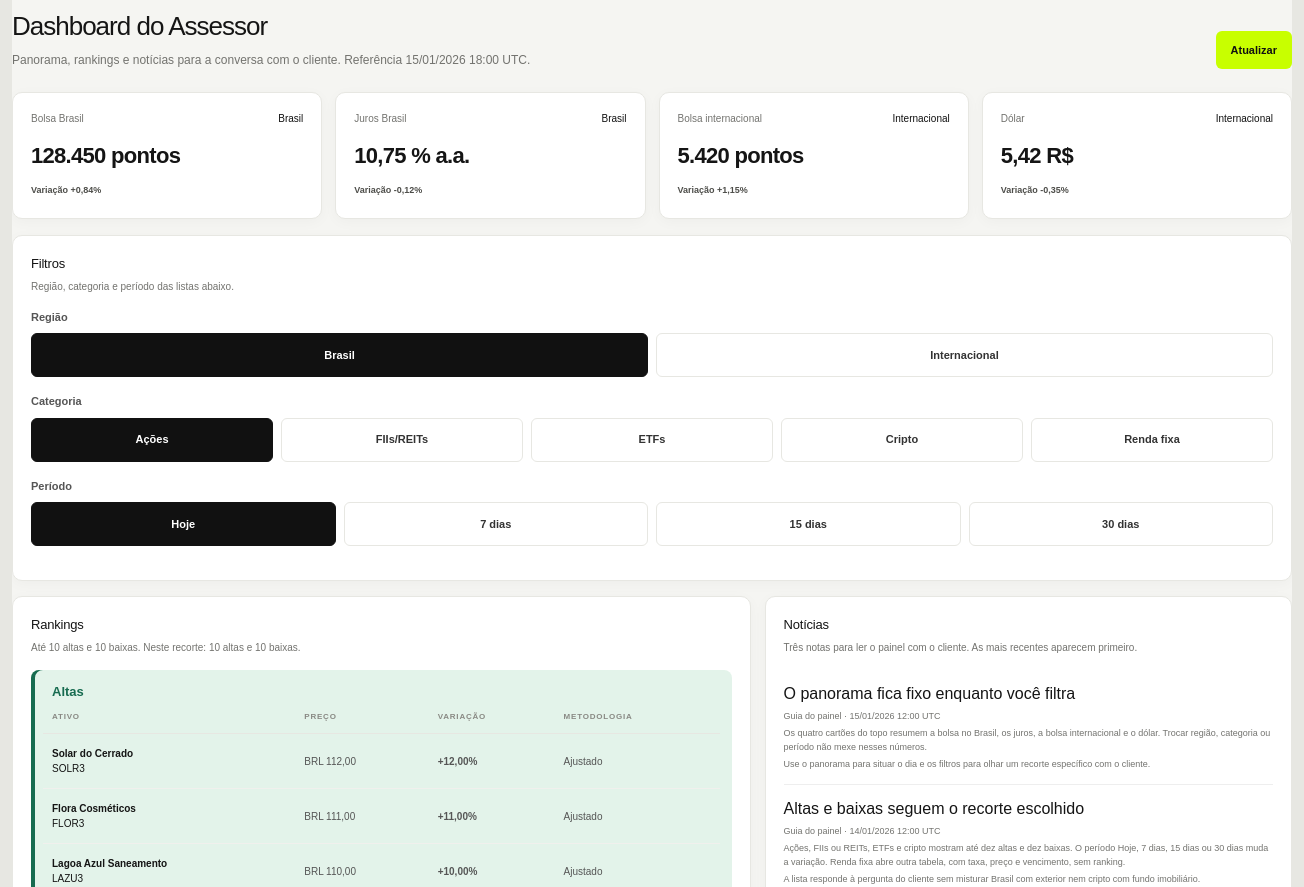
Test case: interface do dashboard › troca região e esconde o ranking quando a categoria é renda fixa
The width and height of the screenshot is (1304, 887).
Click the button "Internacional" at (964, 355), box [656,333,1273,377]
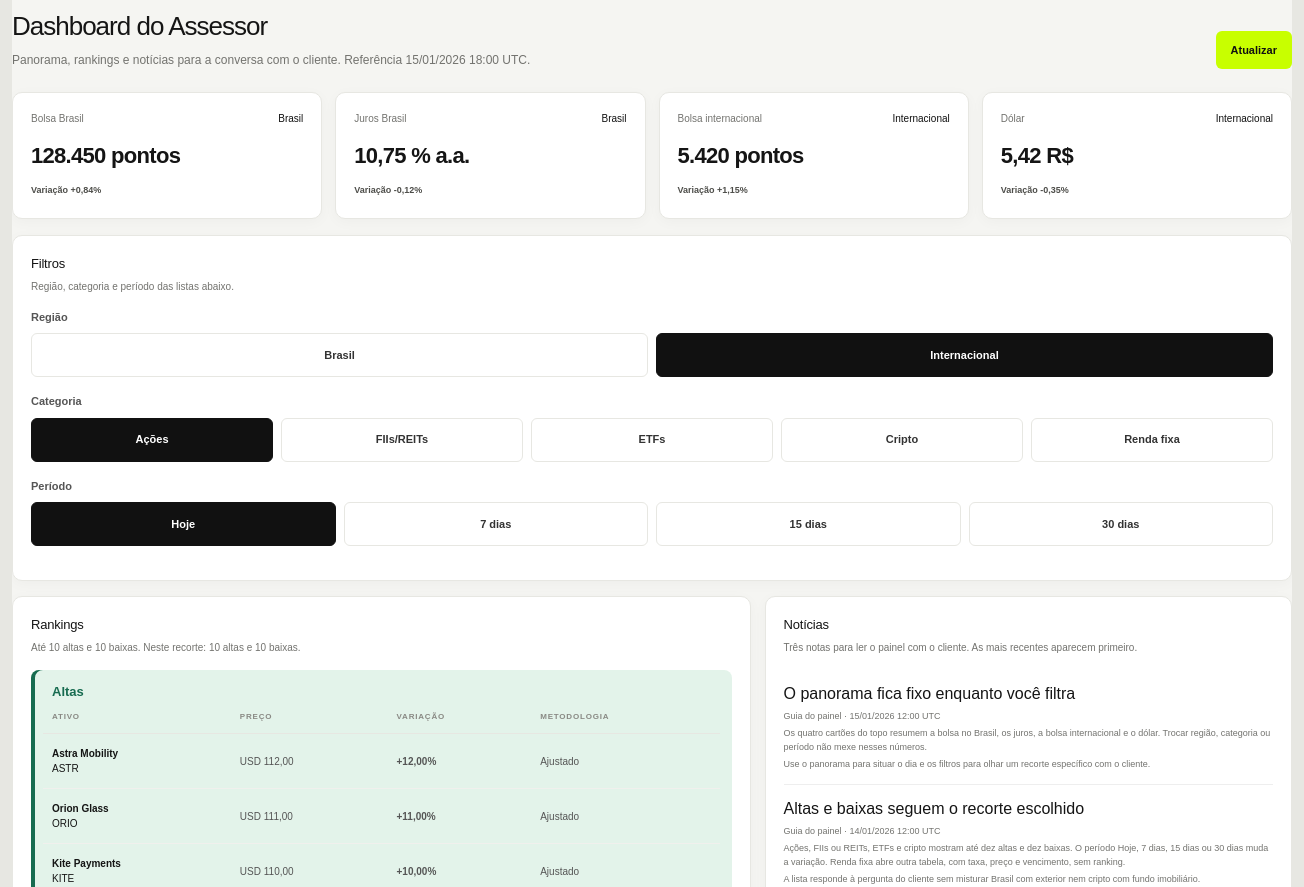
expect the text "ASTR" is shown: met, box [52,763,79,774]
expect the text "USD 112,00" is shown: met, box [231,734,388,788]
Click the button "FIIs/REITs" at (402, 440), box [281,418,523,462]
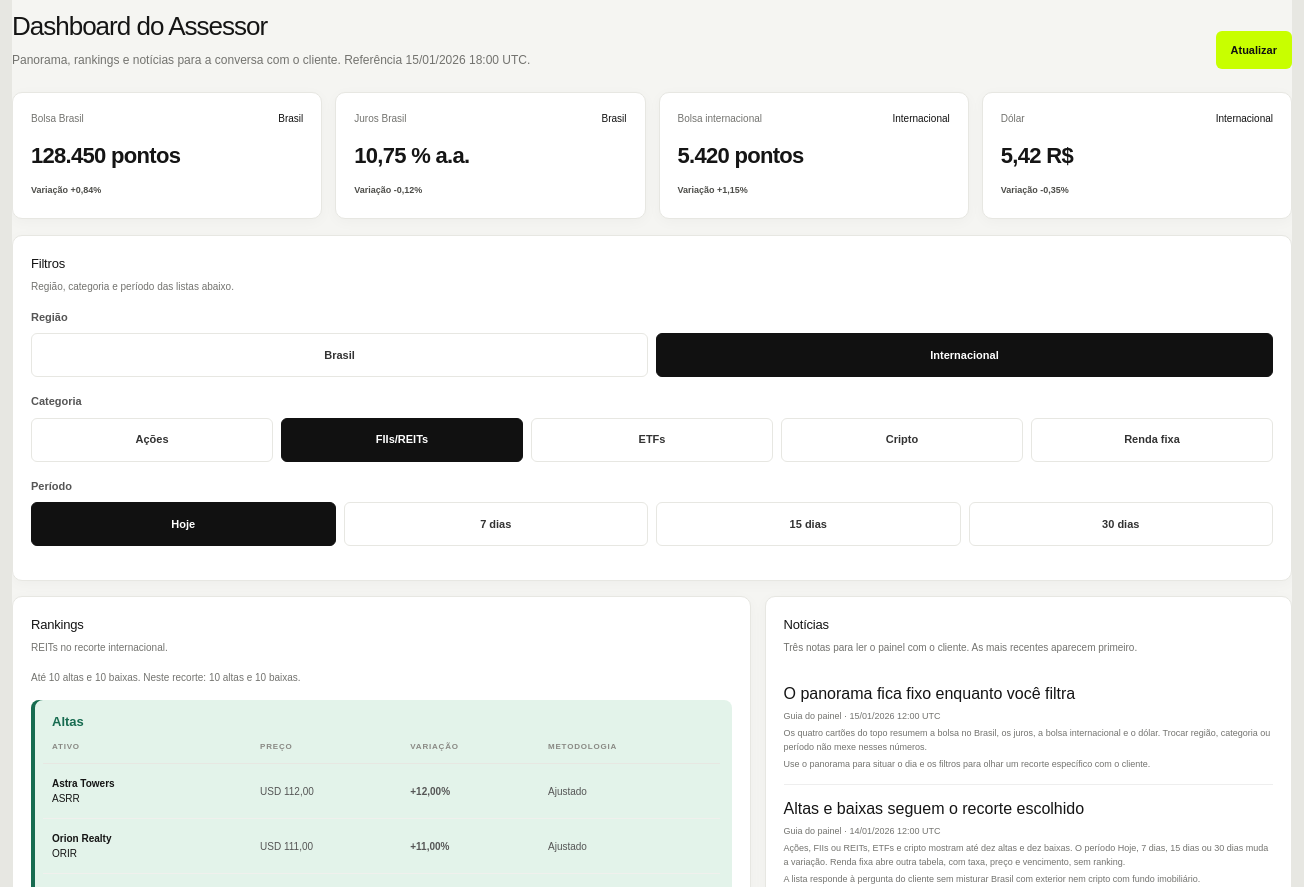
expect the text "REITs no recorte internacional." is shown: met, box [31,642,168,652]
Click the button "Cripto" at (902, 440), box [781,418,1023,462]
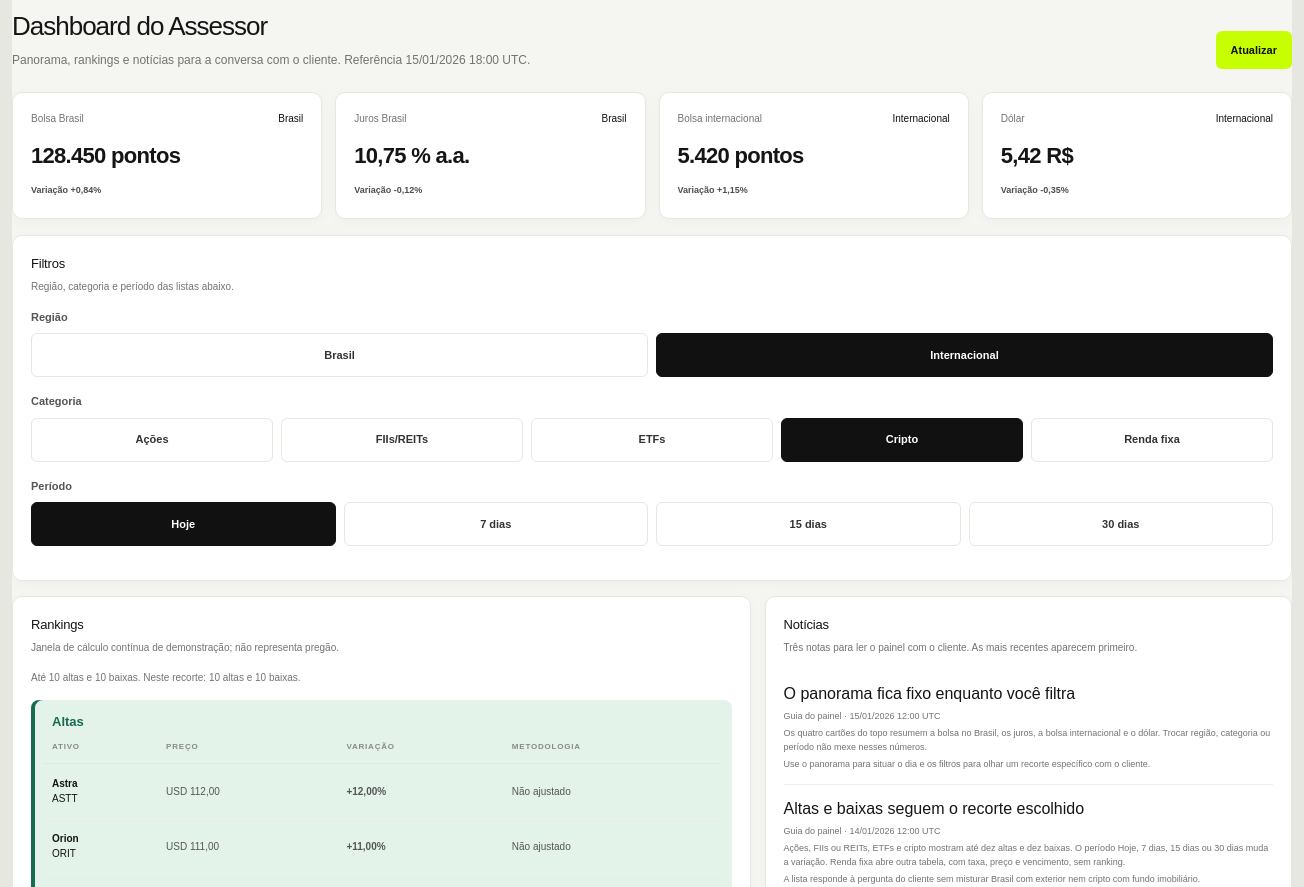
expect the text "Janela de cálculo contínua de demonstração; não representa pregão." is shown: met, box [31,642,339,652]
expect the text "Não ajustado" in the row of "Astra" is shown: met, box [512,786,571,796]
Click the button "Renda fixa" at (1152, 440), box [1031,418,1273,462]
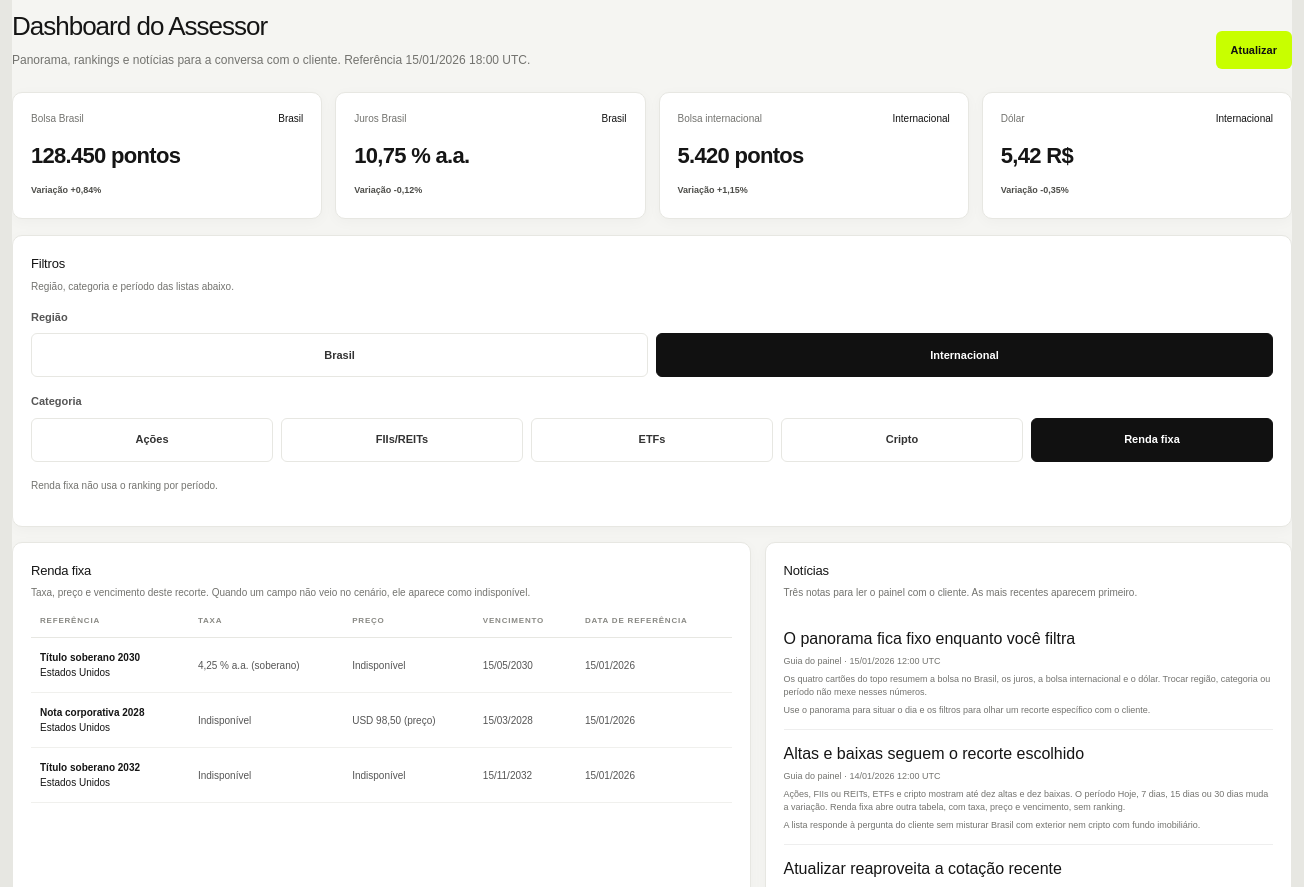
expect the button "Hoje" is not shown: met
expect the heading "Renda fixa" is shown: met, box [31,562,91,578]
expect the text "Título soberano 2030" is shown: met, box [40,652,140,663]
